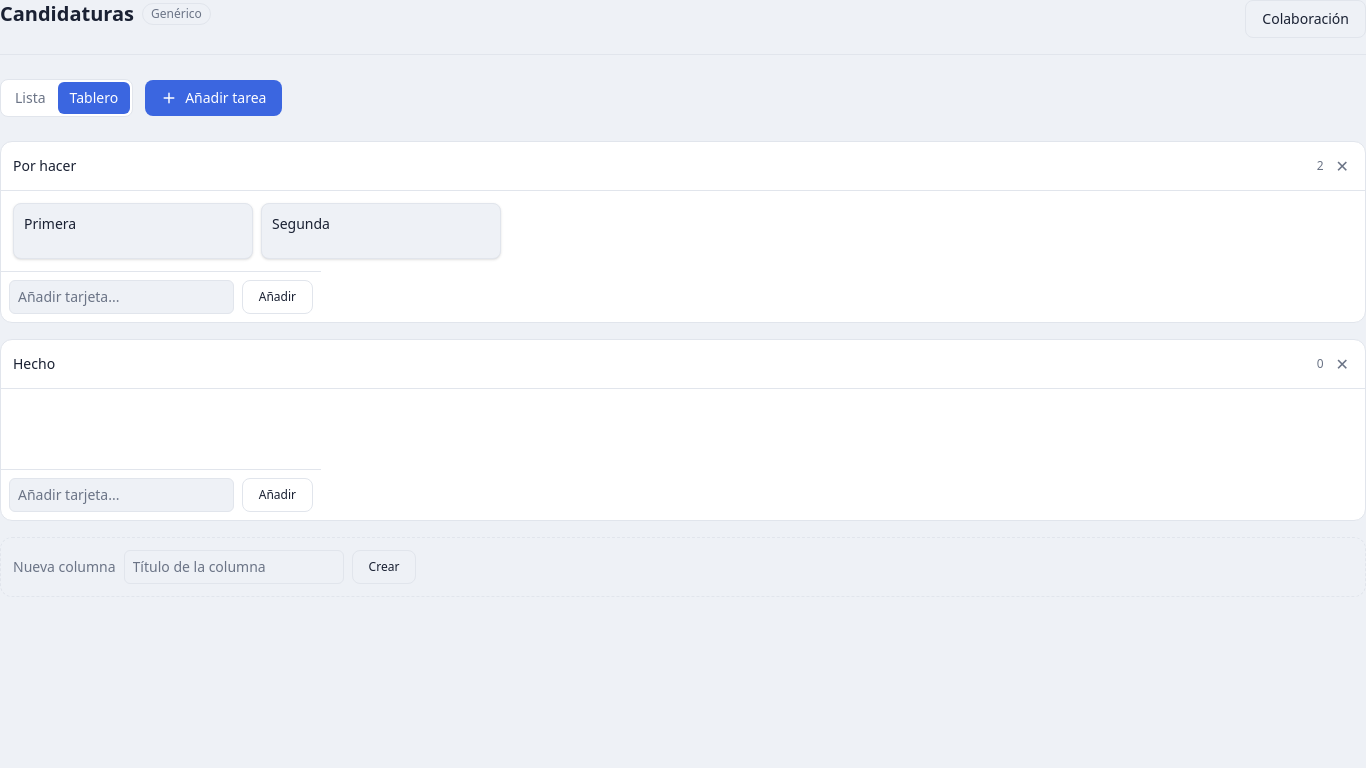
Test: BoardPage › edita una tarjeta desde el modal de detalle
Click the button "Primera". click: x=133, y=231
box: [13,203,253,259]
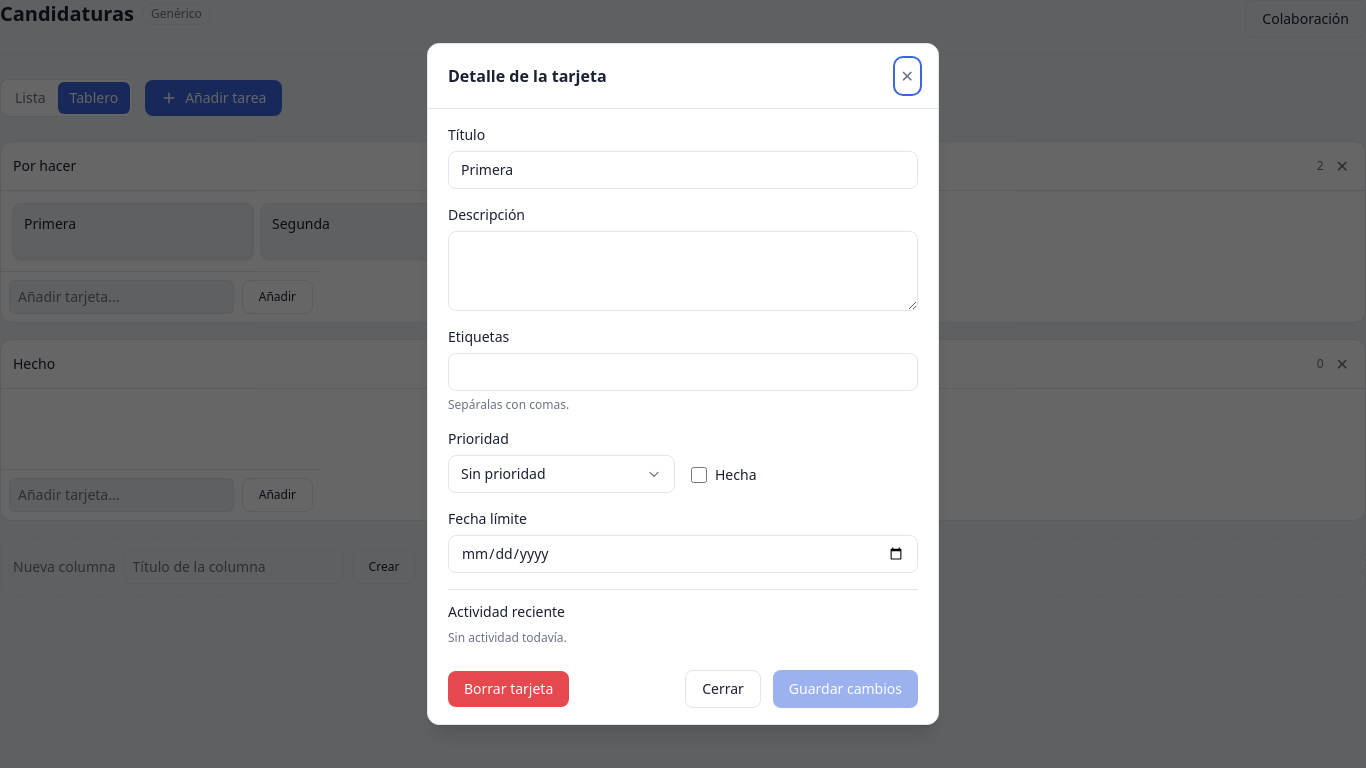
Replace the text in the field labelled "Título" with "Primera editada". click: x=683, y=170
box: [448,151,918,189]
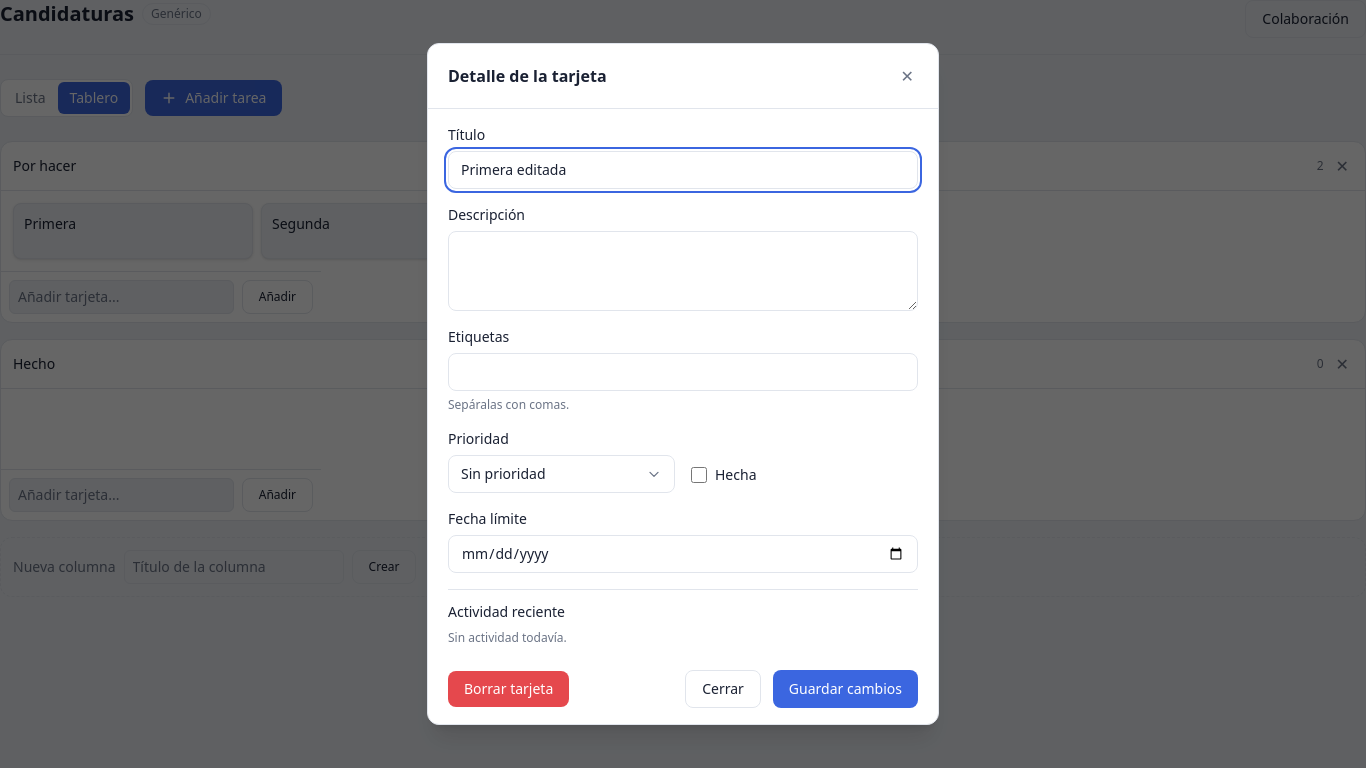
Click the button "Guardar cambios". click: x=845, y=689
box: [773,670,918,708]
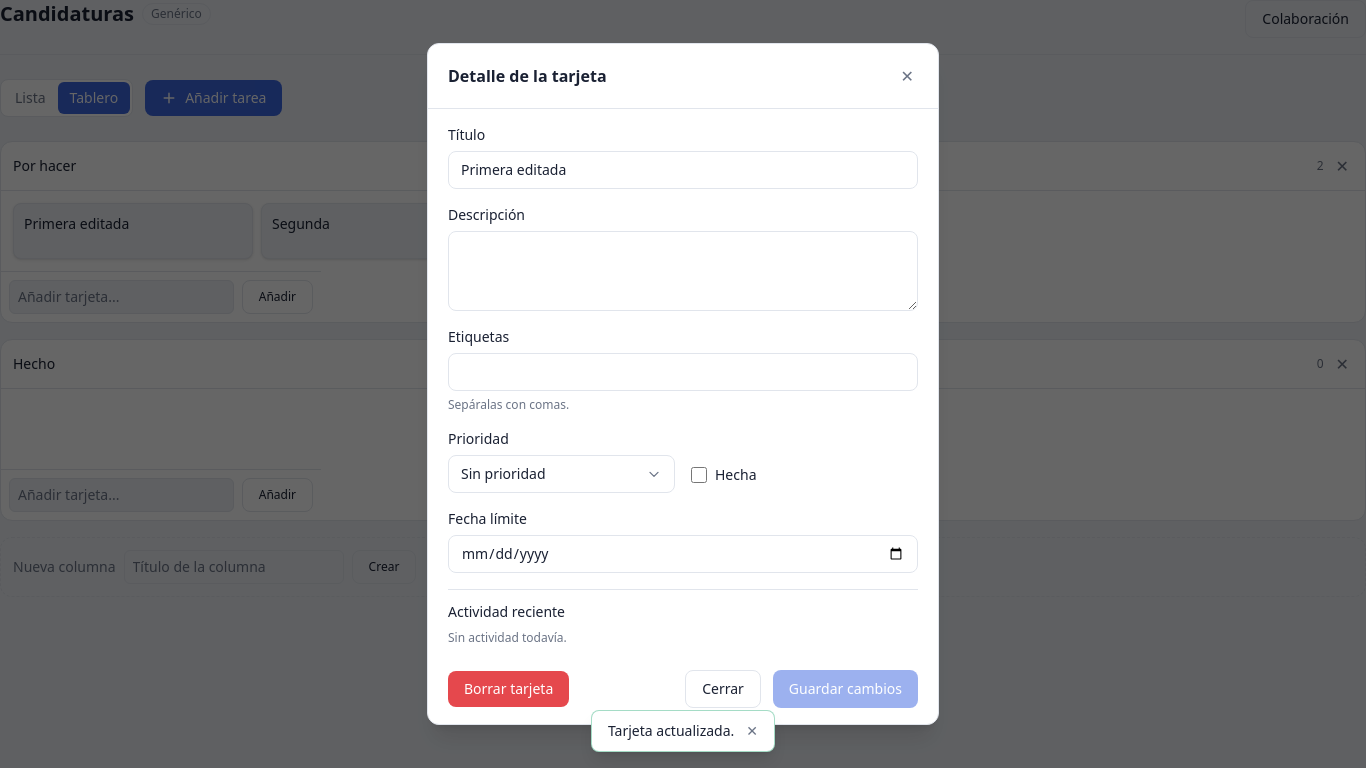
Check: the text "Tarjeta actualizada." is shown, box [608,721,734,741]
Check: the text "Primera editada" is shown, box [24,214,129,234]
